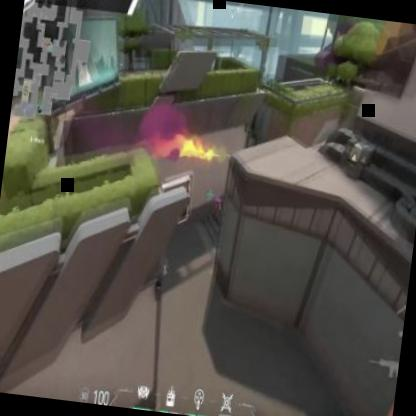enemy: (209, 194, 224, 222)
enemy_head: (214, 197, 220, 204)
